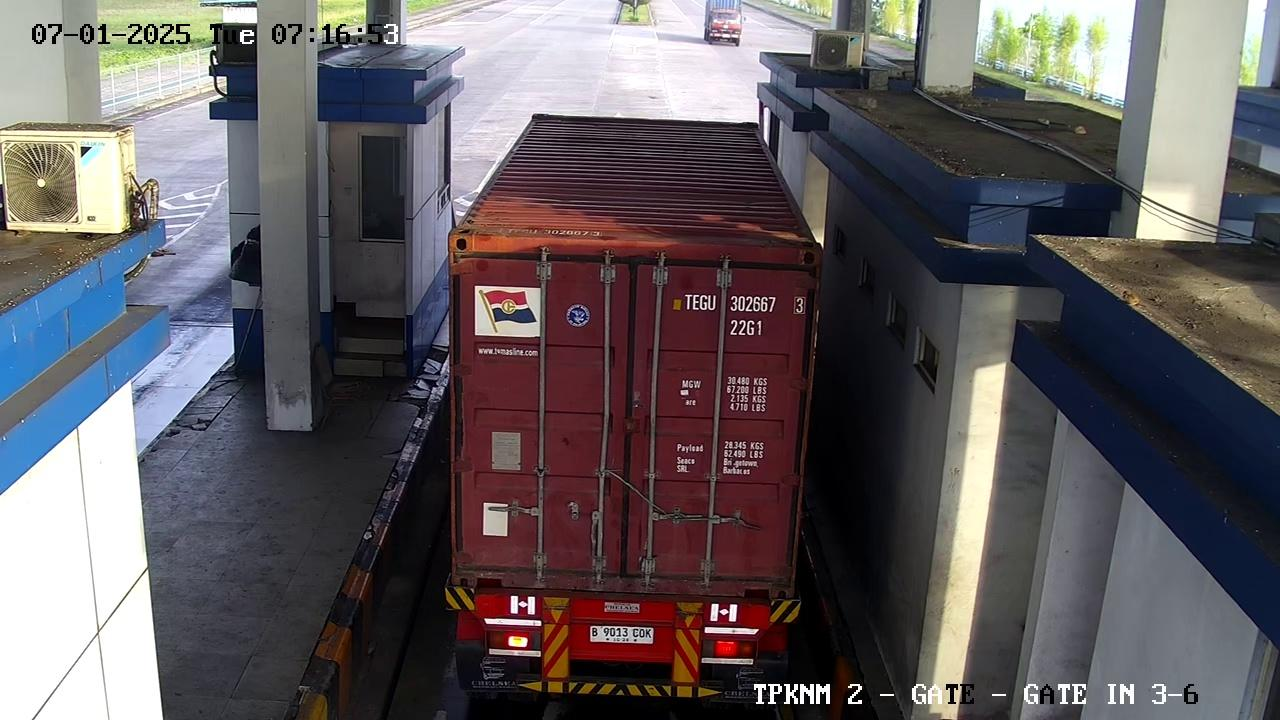Container_ID: (655, 274, 815, 344)
plate_number: (577, 615, 665, 663)
